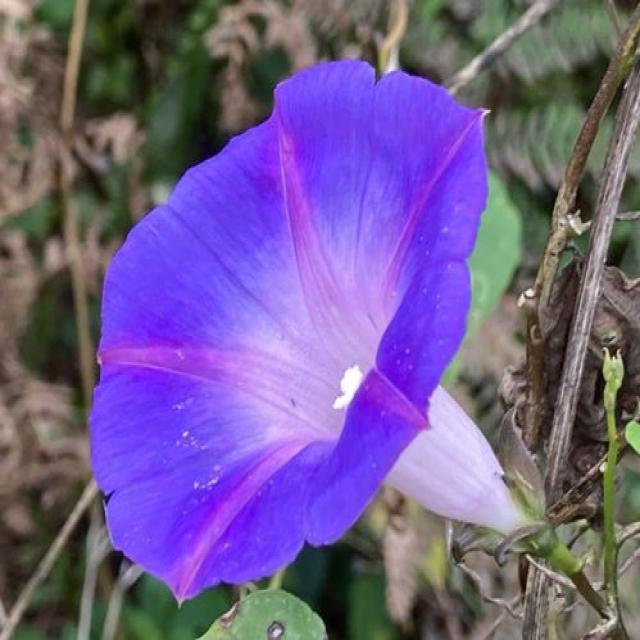ipomoea: (85, 55, 526, 608)
